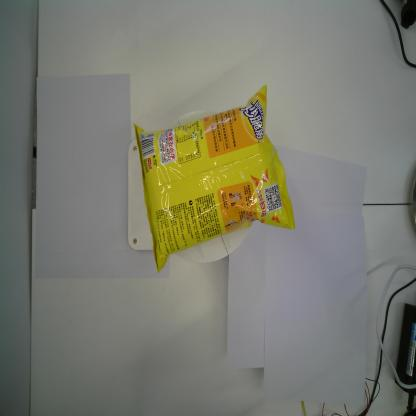Puffed Food: (132, 83, 298, 274)
